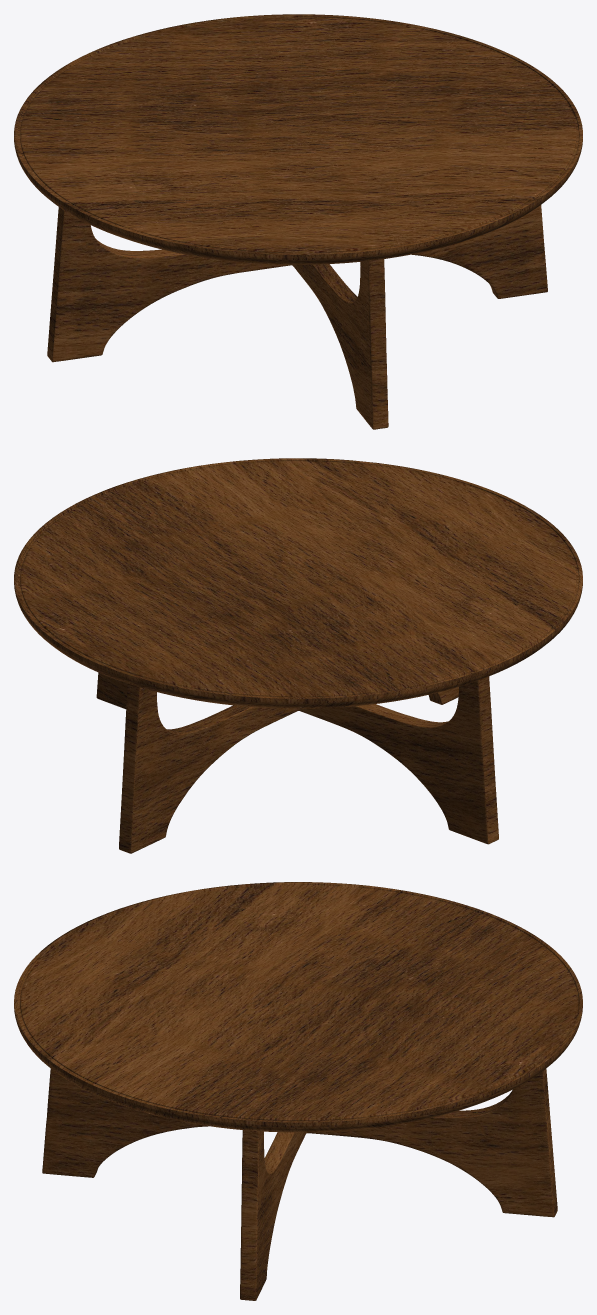
Rendered from 38a3167b-6584-4e90-b04c-af3cabf27a06.glb.
The picture shows the model from 3 angles, top to bottom: view 1: azimuth 30°, elevation 25°; view 2: azimuth 150°, elevation 25°; view 3: azimuth 270°, elevation 25°; orthographic projection.
Parts seen in each view (by area): view 1: Cylinder; view 2: Cylinder; view 3: Cylinder.
Part boxes in pixels (left/top/right/bottom): Cylinder: left=14, top=14, right=582, bottom=429; Cylinder: left=14, top=458, right=582, bottom=853; Cylinder: left=14, top=882, right=582, bottom=1300.
Bounding box in the file's own units: 1 × 0.369 × 1.
1 material, 1 textured.
